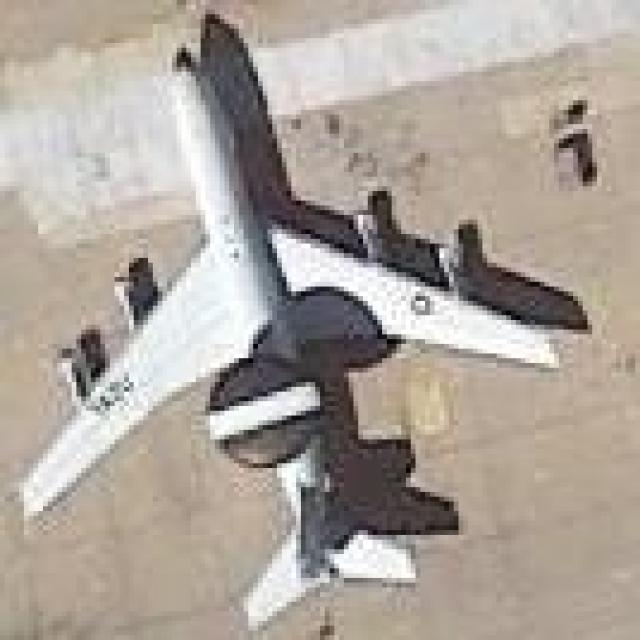E-3_TopDown: (15, 5, 592, 630)
